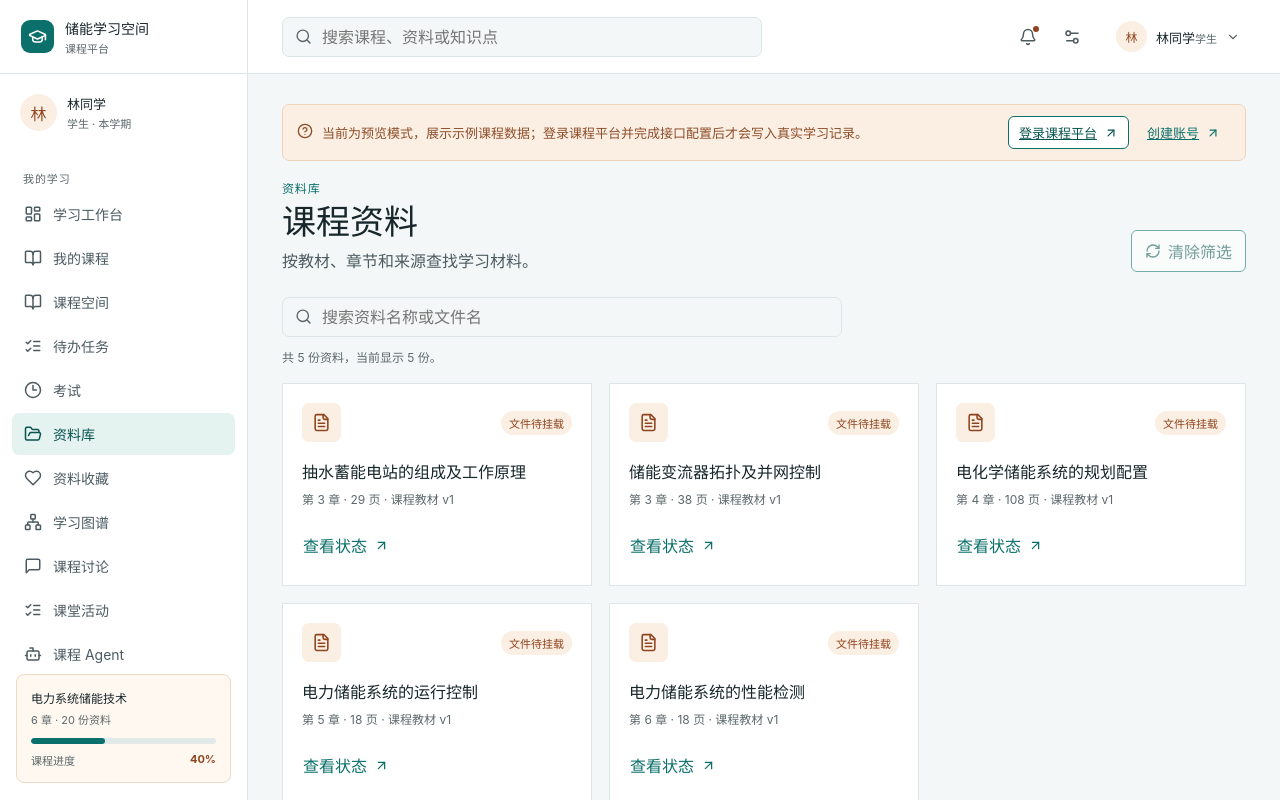
Test: learning platform component › component resource list filters by search, reports visible counts and clears the filter
expect the heading "课程资料" is shown: met, box [282,201,418,242]
expect the text "共 5 份资料，当前显示 5 份。" is shown: met, box [282,350,442,365]
Type "规划" into the field labelled "搜索资料" at (562, 317), box [282,297,842,337]
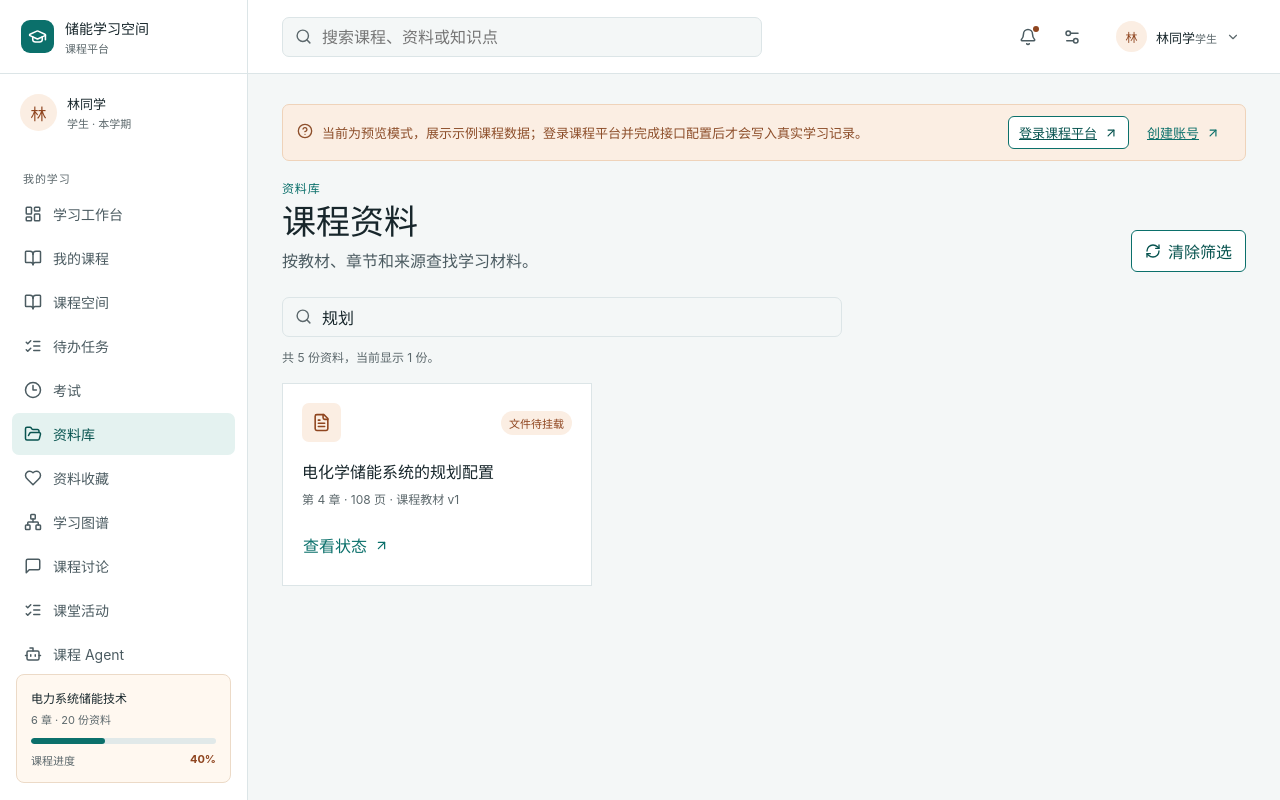
expect the number of elements with class "resource-card" is 1: met, box [282,383,592,586]
expect the text "共 5 份资料，当前显示 1 份。" is shown: met, box [282,350,440,365]
expect the heading "储能变流器拓扑及并网控制" is gone: met
Replace the text in the field named "搜索资料" with "不存在的关键字" at (562, 317), box [282,297,842,337]
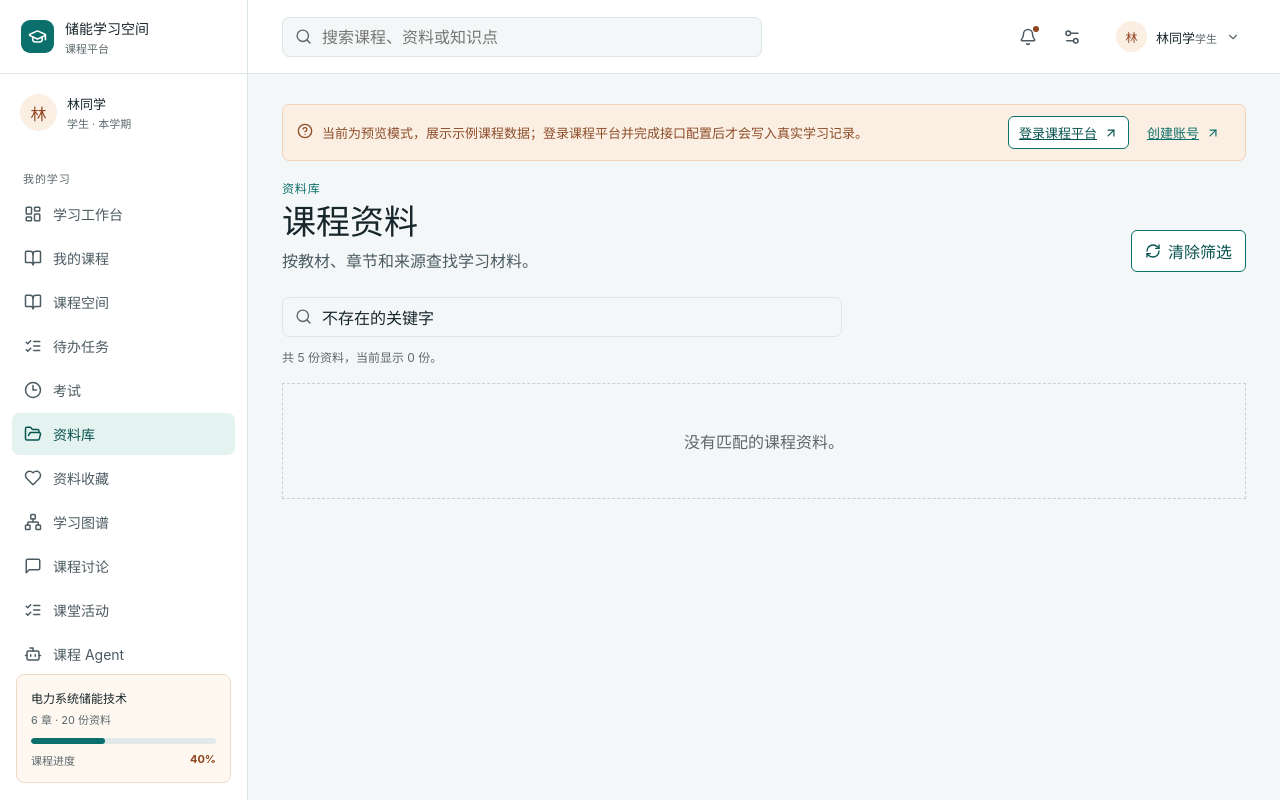
expect the text "没有匹配的课程资料。" is shown: met, box [282,383,1246,499]
expect the text "共 5 份资料，当前显示 0 份。" is shown: met, box [282,350,442,365]
expect no elements with class "resource-card" are shown: met
Click the button "清除筛选" at (1188, 251), box [1131,230,1246,272]
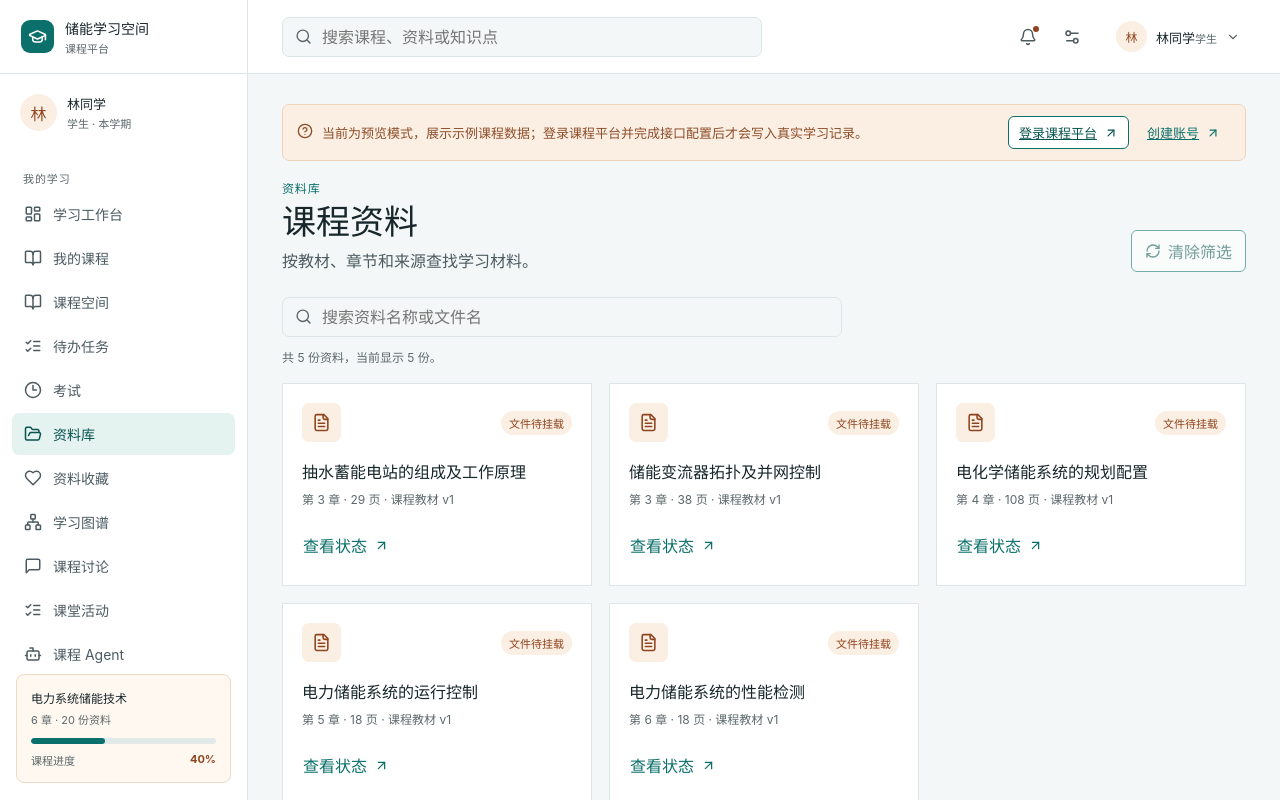
expect the text "共 5 份资料，当前显示 5 份。" is shown: met, box [282,350,442,365]
expect the field labelled "搜索资料" is empty: met, box [282,297,842,337]
